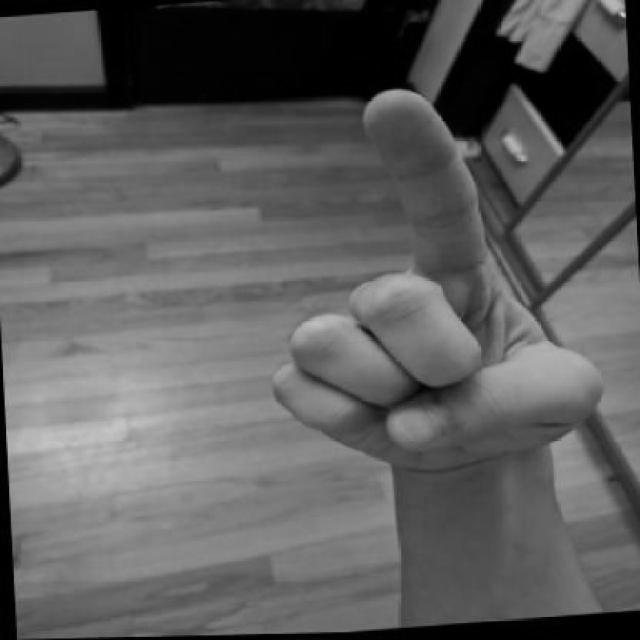D: (250, 72, 613, 494)
